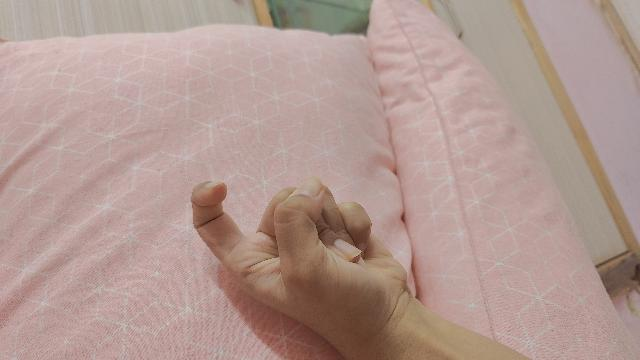tamrachud: (189, 179, 531, 360)
